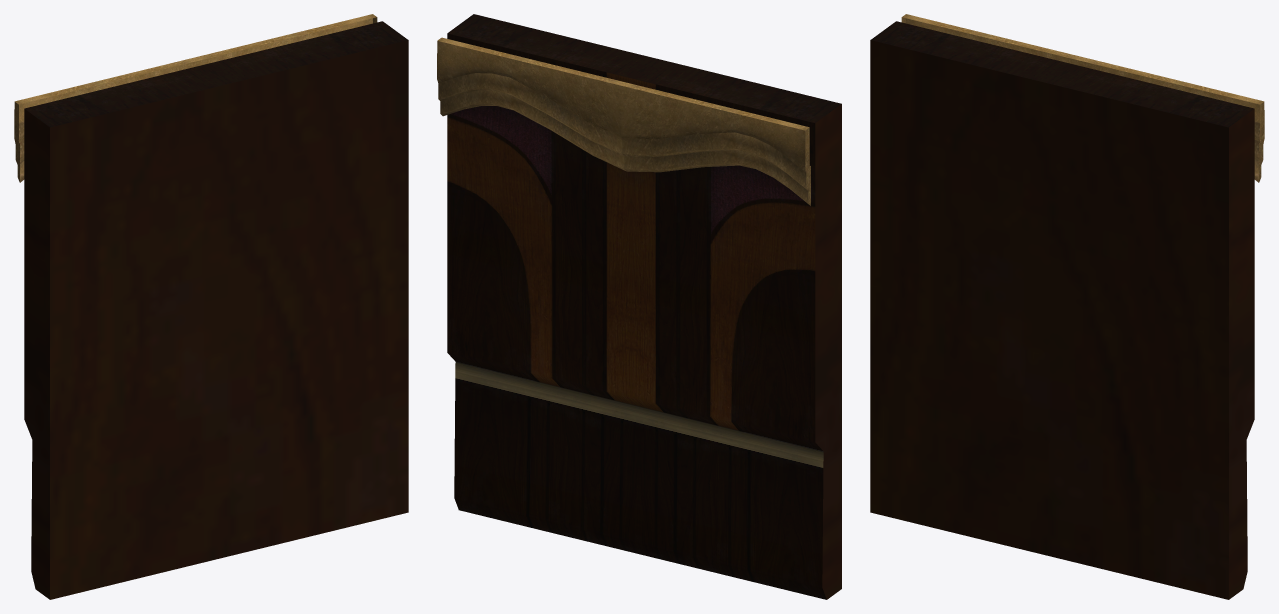
The model's file is Restarurant Wall.fbx.
3 views of the same model, side by side, from view 1: azimuth 30°, elevation 25°; view 2: azimuth 150°, elevation 25°; view 3: azimuth 330°, elevation 25° (orthographic). The views are drawn at different scales.
Visible parts, largest first — view 1: EDU_Restaurant_barTop257:EDU_Restaurant_barTop256; view 2: EDU_Restaurant_barTop257:EDU_Restaurant_barTop256; view 3: EDU_Restaurant_barTop257:EDU_Restaurant_barTop256.
Boxes of the visible parts, bbox=[...] form: EDU_Restaurant_barTop257:EDU_Restaurant_barTop256: bbox=[14, 14, 408, 599]; EDU_Restaurant_barTop257:EDU_Restaurant_barTop256: bbox=[437, 14, 841, 599]; EDU_Restaurant_barTop257:EDU_Restaurant_barTop256: bbox=[870, 14, 1264, 599].
Bounding box in the file's own units: 27.61 × 34.78 × 4.76.
Materials: 1 (1 with a texture image).
